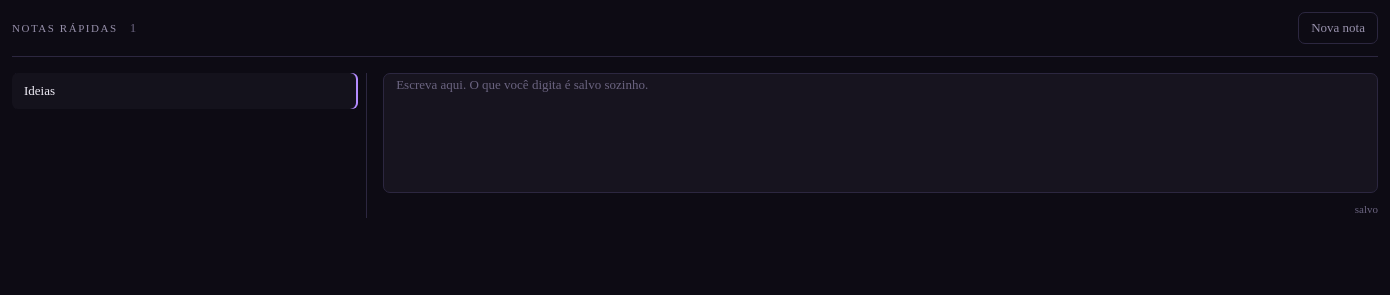
Test: NotesPanel › mostra o erro que o servidor devolveu ao salvar
Type "demais" into the text box named "texto de Ideias" at [881, 133], box [383,73,1378,193]
Wait 800 ms
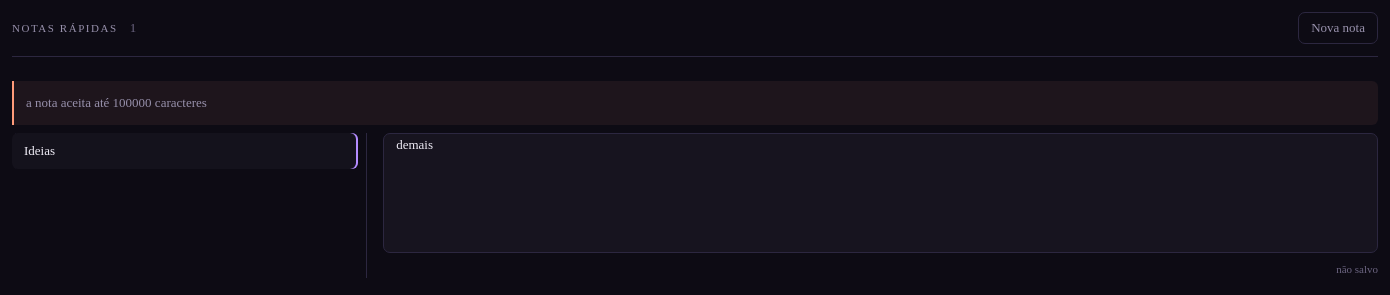
Expected: the message "a nota aceita até 100000 caracteres" is shown, [12,81,1378,124]
